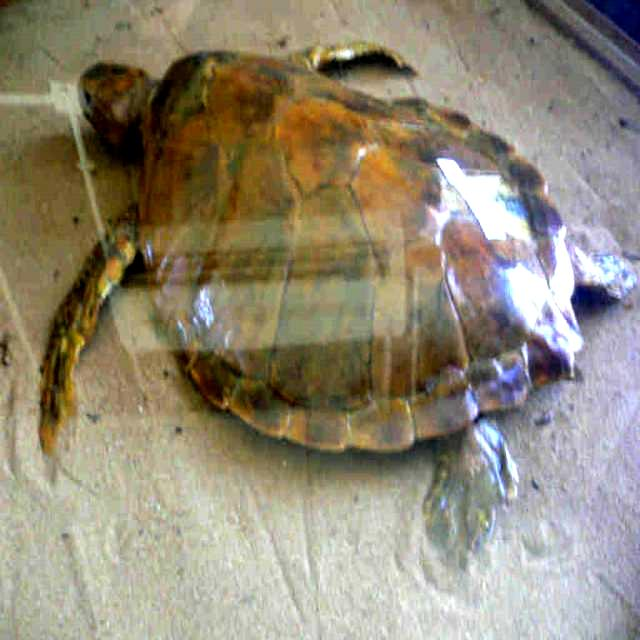Sea turtle: (40, 37, 639, 560)
